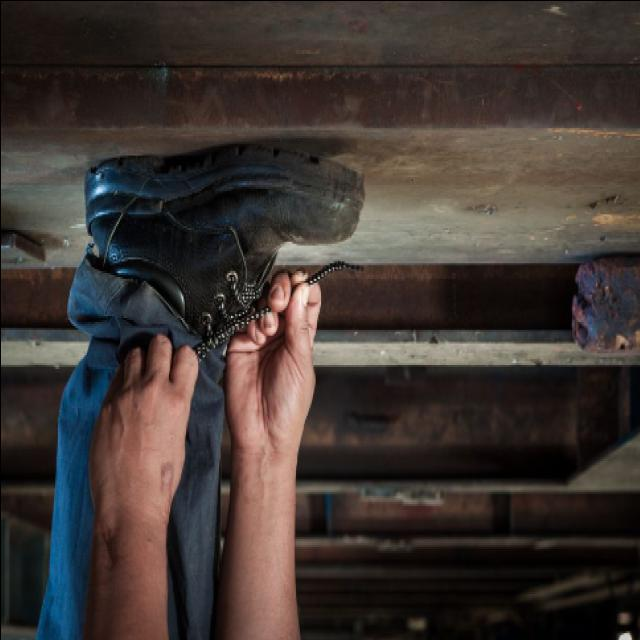boots: (76, 140, 367, 373)
